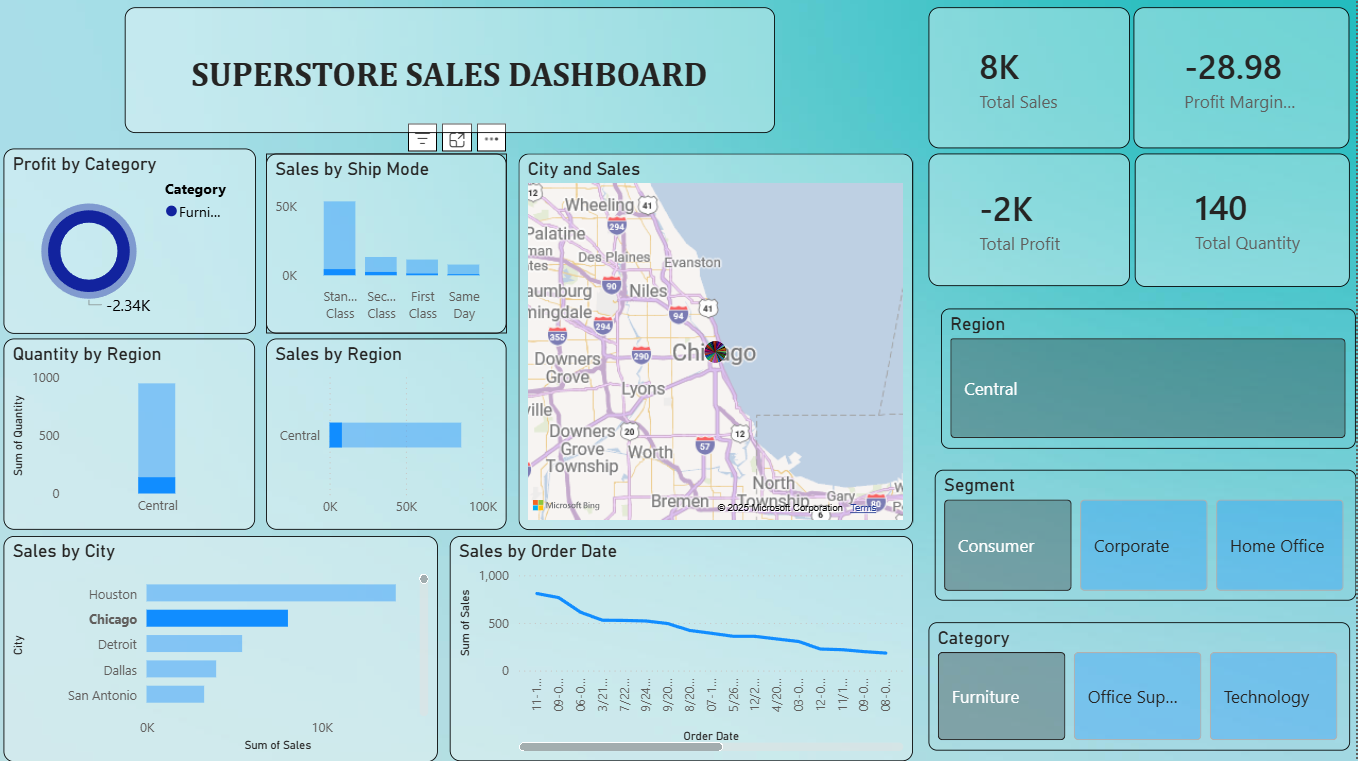

Layout of this report page (visuals, bound fields, positions):
{"tool":"powerbi","page":{"name":"Page 1","canvas":[1280,720],"ordinal":0},"visuals":[{"type":"cardVisual","fields":{"Data":["Sample - Superstore2.Profit Margin %"]},"box":[1070.9,10.5,203.5,132.6],"z":0},{"type":"cardVisual","fields":{"Data":["Sample - Superstore2.Total_Sales"]},"box":[877.9,10.5,189.5,132.6],"z":1000},{"type":"cardVisual","fields":{"Data":["Sample - Superstore2.Total Profit"]},"box":[877.9,147.7,189.5,124.4],"z":2000},{"type":"cardVisual","fields":{"Data":["Sample - Superstore2.Total_Quantity"]},"box":[1072.1,147.7,202.3,125.6],"z":3000},{"type":"clusteredBarChart","title":"Sales by City","fields":{"Category":["Sample - Superstore2.City"],"Y":["Sum(Sample - Superstore2.Sales)"]},"box":[6.9,507.7,408.9,212.5],"z":4000},{"type":"clusteredBarChart","title":"Sales by Region","fields":{"Y":["Sum(Sample - Superstore2.Sales)"],"Category":["Sample - Superstore2.Region"]},"box":[254.7,322.1,226.7,180.2],"z":5000},{"type":"columnChart","title":"Quantity by Region","fields":{"Category":["Sample - Superstore2.Region"],"Y":["Sum(Sample - Superstore2.Quantity)"]},"box":[7,322,237,180],"z":6000},{"type":"donutChart","title":"Profit by Category","fields":{"Category":["Sample - Superstore2.Category"],"Y":["Sum(Sample - Superstore2.Profit)"]},"box":[7,143,237.2,174.4],"z":7000},{"type":"advancedSlicerVisual","fields":{"Values":["Sample - Superstore2.Region"]},"box":[883.7,294.2,390.7,131.4],"z":8000},{"type":"advancedSlicerVisual","fields":{"Values":["Sample - Superstore2.Segment"]},"box":[877.9,444.2,396.5,124.4],"z":9000},{"type":"advancedSlicerVisual","fields":{"Values":["Sample - Superstore2.Category"]},"box":[877.9,589.5,396.5,120.9],"z":10000},{"type":"lineChart","title":"Sales by Order Date","fields":{"Category":["Sample - Superstore2.Order Date"],"Y":["Sum(Sample - Superstore2.Sales)"]},"box":[426.7,508.1,436,211.6],"z":11000},{"type":"map","fields":{"Series":["Sample - Superstore2.Sales"],"Category":["Sample - Superstore2.City"]},"box":[491.9,147.7,370.9,354.7],"z":12000},{"type":"clusteredColumnChart","title":" Sales by Ship Mode","fields":{"Y":["Sum(Sample - Superstore2.Sales)"],"Category":["Sample - Superstore2.Ship Mode"]},"box":[254.7,147.7,226.7,169.8],"z":13000},{"type":"textbox","box":[15.1,33.7,847.7,95.3],"z":13001}]}

Visuals, with their boxes in screenshot pixels (x1, y1, x2, y2), scaled from the page's 1280x720 canvas onto the 1358x761 screenshot:
cardVisual - Sample - Superstore2.Profit Margin %: (1136,11,1352,151)
cardVisual - Sample - Superstore2.Total_Sales: (931,11,1132,151)
cardVisual - Sample - Superstore2.Total Profit: (931,156,1132,288)
cardVisual - Sample - Superstore2.Total_Quantity: (1137,156,1352,289)
"Sales by City" clusteredBarChart: (7,537,441,760)
"Sales by Region" clusteredBarChart: (270,340,511,531)
"Quantity by Region" columnChart: (7,340,259,531)
"Profit by Category" donutChart: (7,151,259,335)
advancedSlicerVisual - Sample - Superstore2.Region: (938,311,1352,450)
advancedSlicerVisual - Sample - Superstore2.Segment: (931,469,1352,601)
advancedSlicerVisual - Sample - Superstore2.Category: (931,623,1352,751)
"Sales by Order Date" lineChart: (453,537,915,760)
map - Sample - Superstore2.Sales x Sample - Superstore2.City: (522,156,915,531)
" Sales by Ship Mode" clusteredColumnChart: (270,156,511,336)
textbox: (16,36,915,136)
